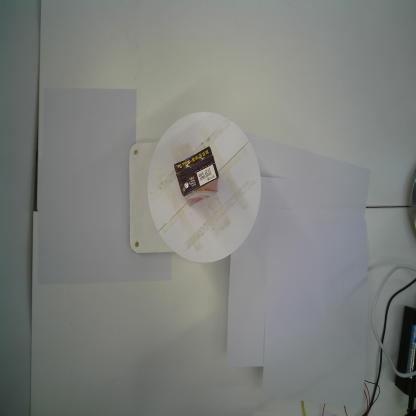Drink: (174, 146, 219, 206)
